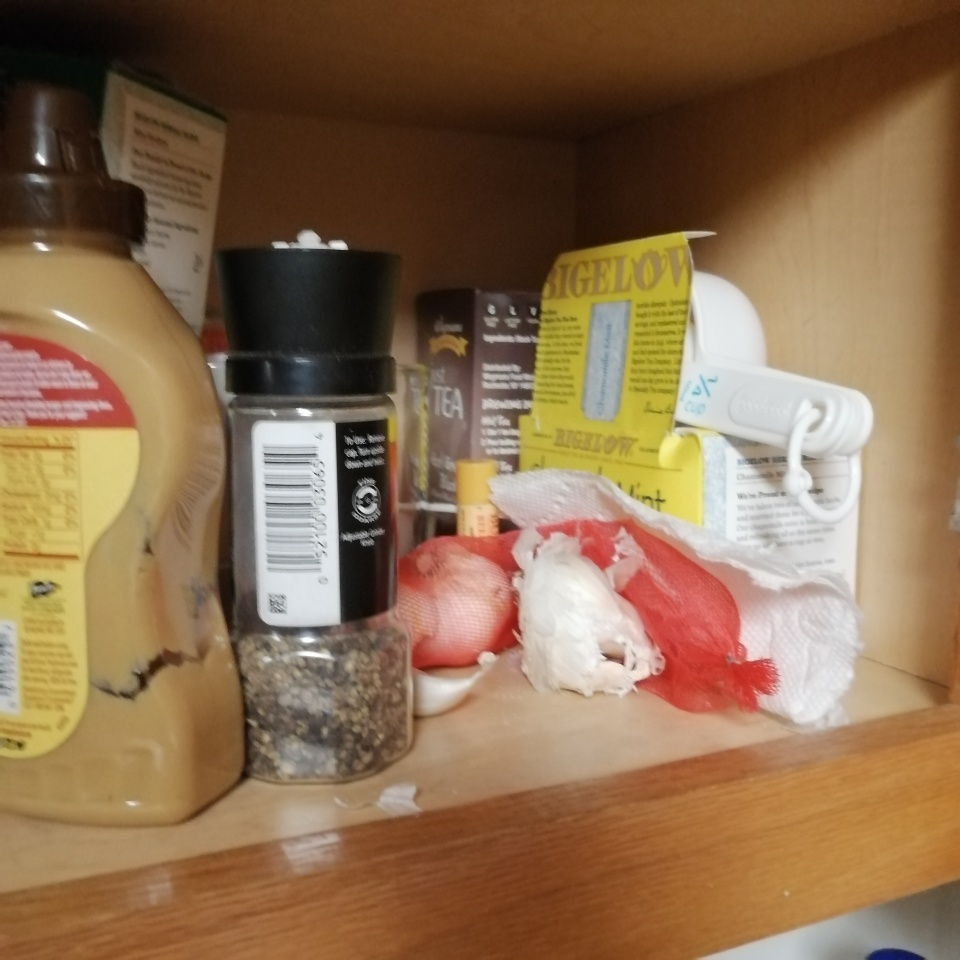chapstick: (455, 458, 501, 537)
